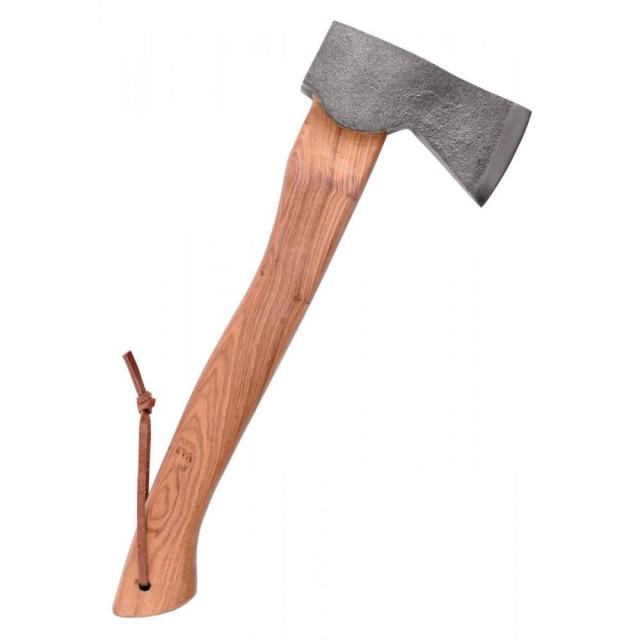Kapak: (158, 5, 526, 595)
